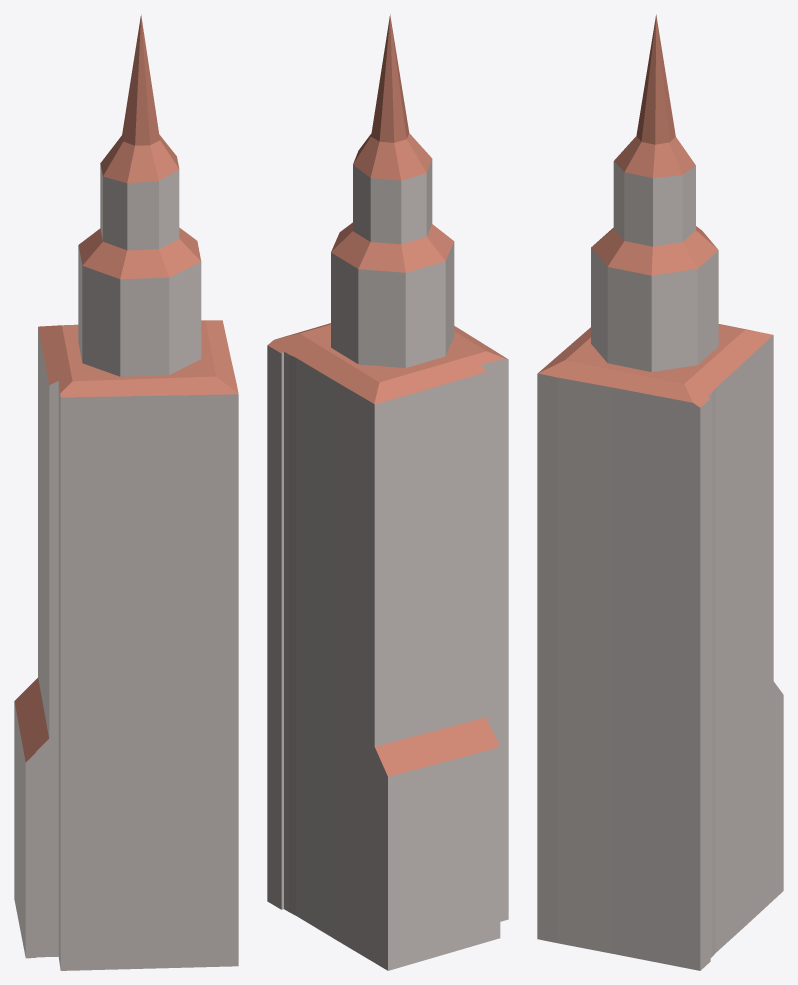
The model's file is town-hall-tower.glb.
3 renders of one model, left to right at view 1: azimuth 30°, elevation 25°; view 2: azimuth 150°, elevation 25°; view 3: azimuth 270°, elevation 25°, orthographic. The views are drawn at different scales.
Parts seen in each view (by area): view 1: Town Hall Tower; view 2: Town Hall Tower; view 3: Town Hall Tower.
Part boxes in pixels (<box>): Town Hall Tower: <box>14,14,238,970</box>; Town Hall Tower: <box>267,14,508,970</box>; Town Hall Tower: <box>537,14,783,970</box>.
Bounding box in the file's own units: 16.42 × 66.24 × 16.29.
